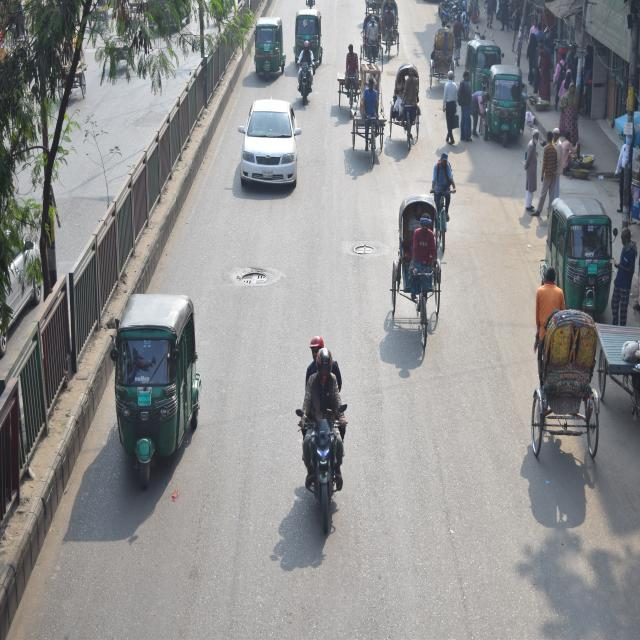car: (242, 96, 294, 188)
motorbike: (291, 394, 354, 558), (293, 54, 316, 115)
